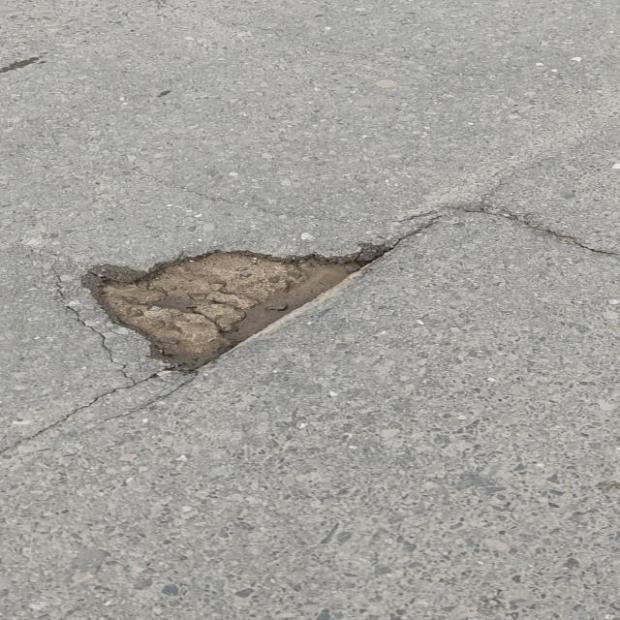lubang: (88, 244, 387, 369)
